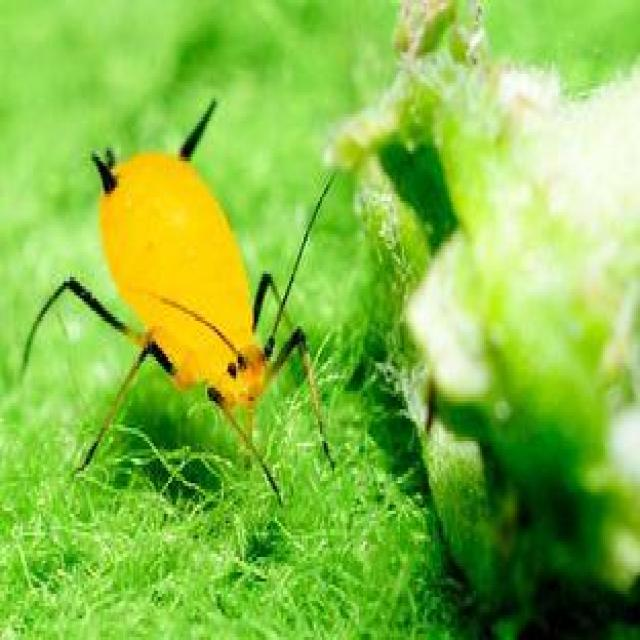Aphids: (20, 87, 364, 540)
